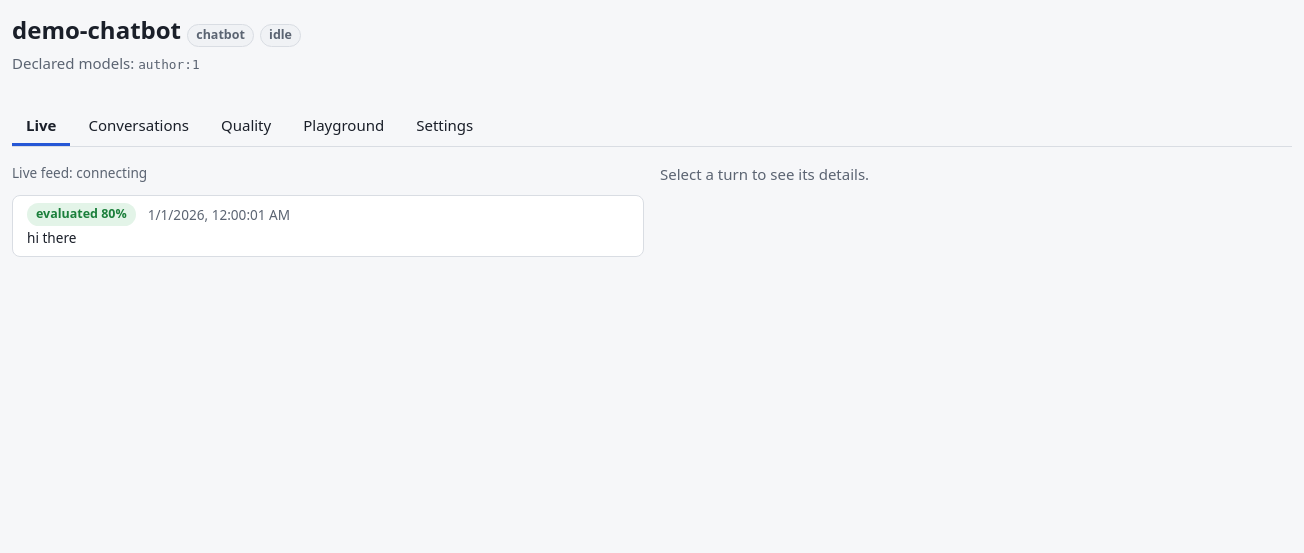
conversations tab › opens a turn to show its spans and per-evaluator breakdown
Click the tab "Conversations" at (139, 126), box top-left (74, 106), bottom-right (203, 146)
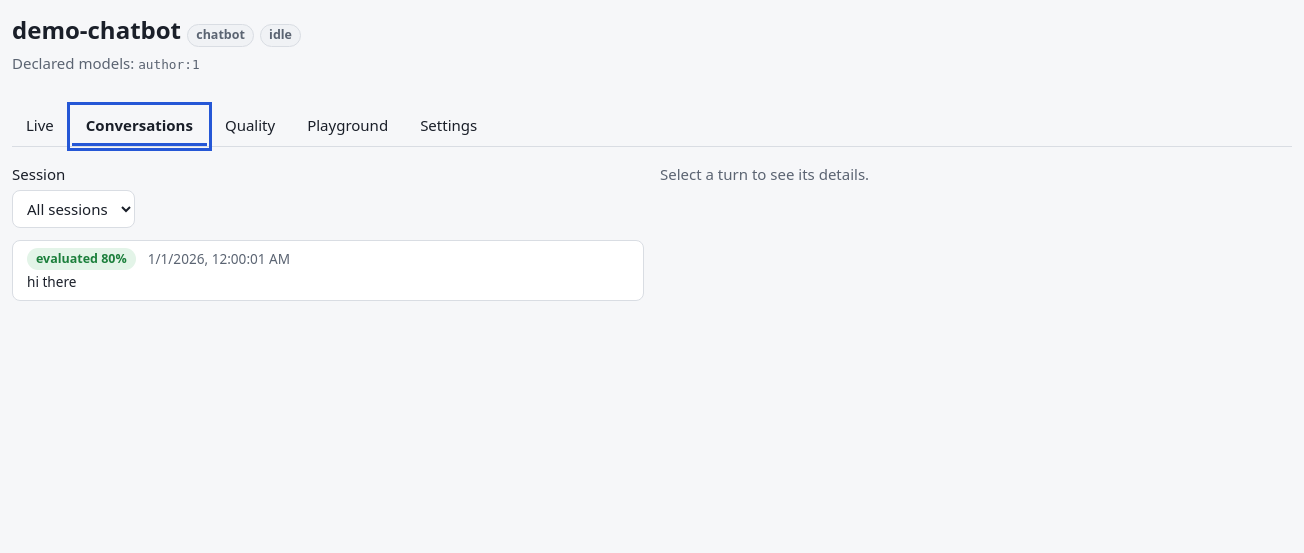
Click the text "hi there" at (52, 282), box top-left (27, 272), bottom-right (76, 293)
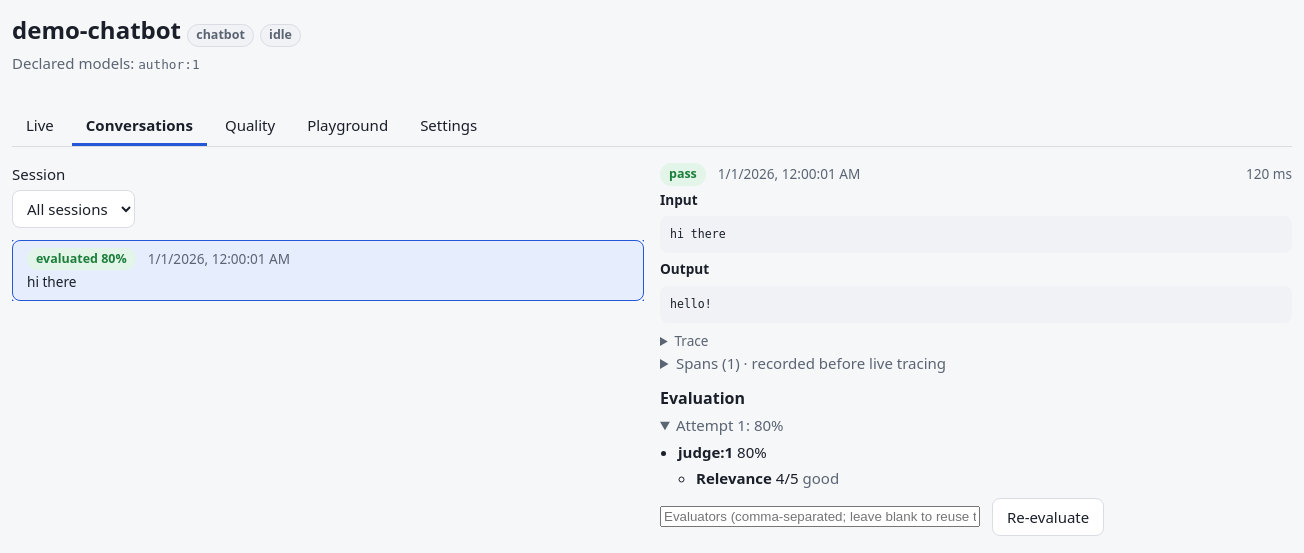
Expected: the text "hello!" is shown, top-left (660, 286), bottom-right (1292, 323)
Expected: the text "judge:1" is shown, top-left (678, 442), bottom-right (733, 462)
Expected: the text "Relevance" is shown, top-left (696, 468), bottom-right (772, 488)
